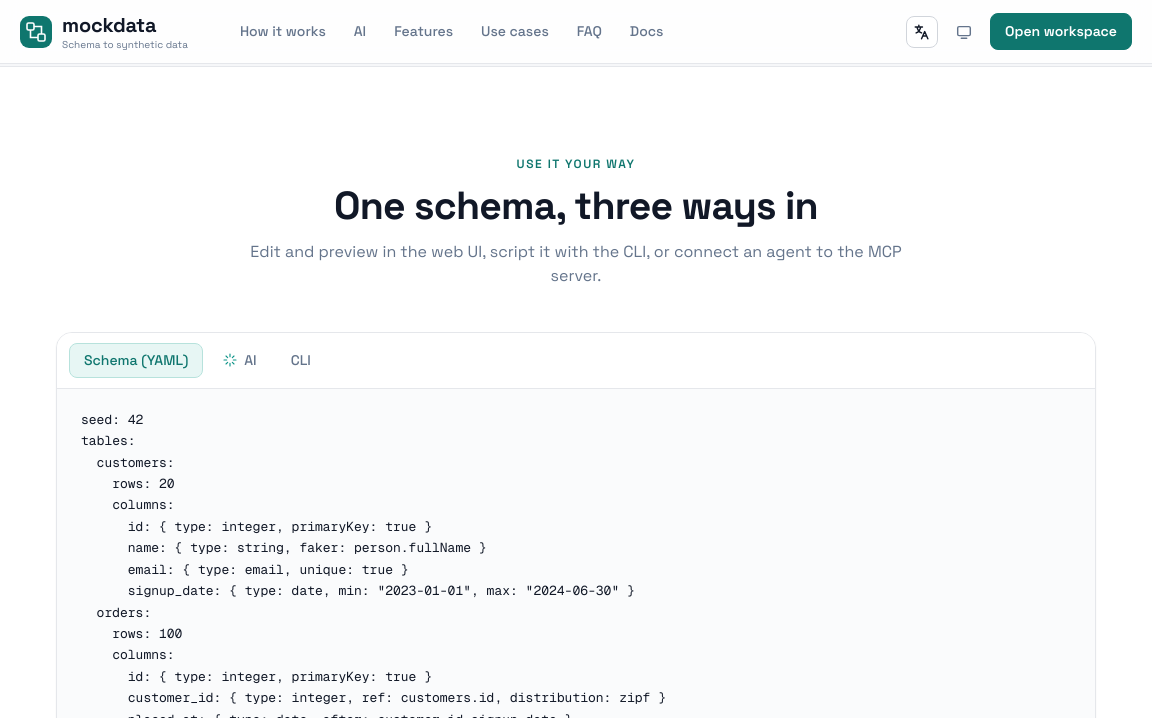
Test: Landing › switches the example snippets with tabs and arrow keys
(page scrolled)
Click the tab "CLI" at (301,360), box [276,343,326,378]
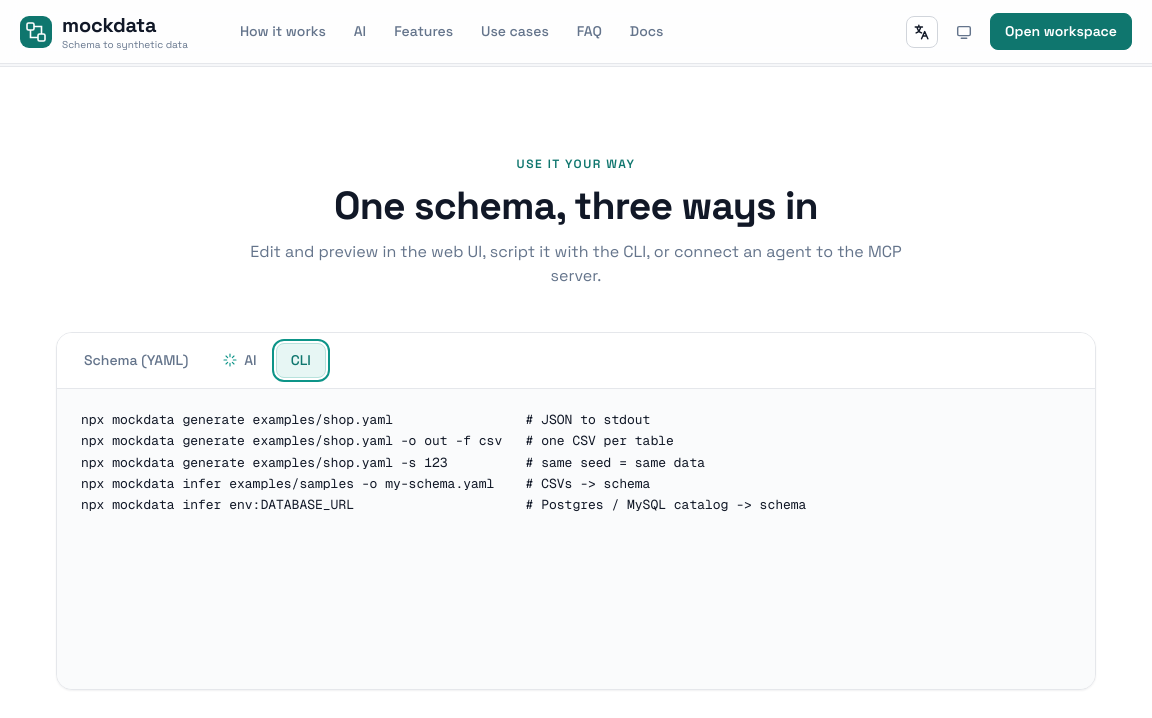
Now the panel shows "npx mockdata generate", box [81,411,806,514]
Press Arrowleft
(page scrolled)
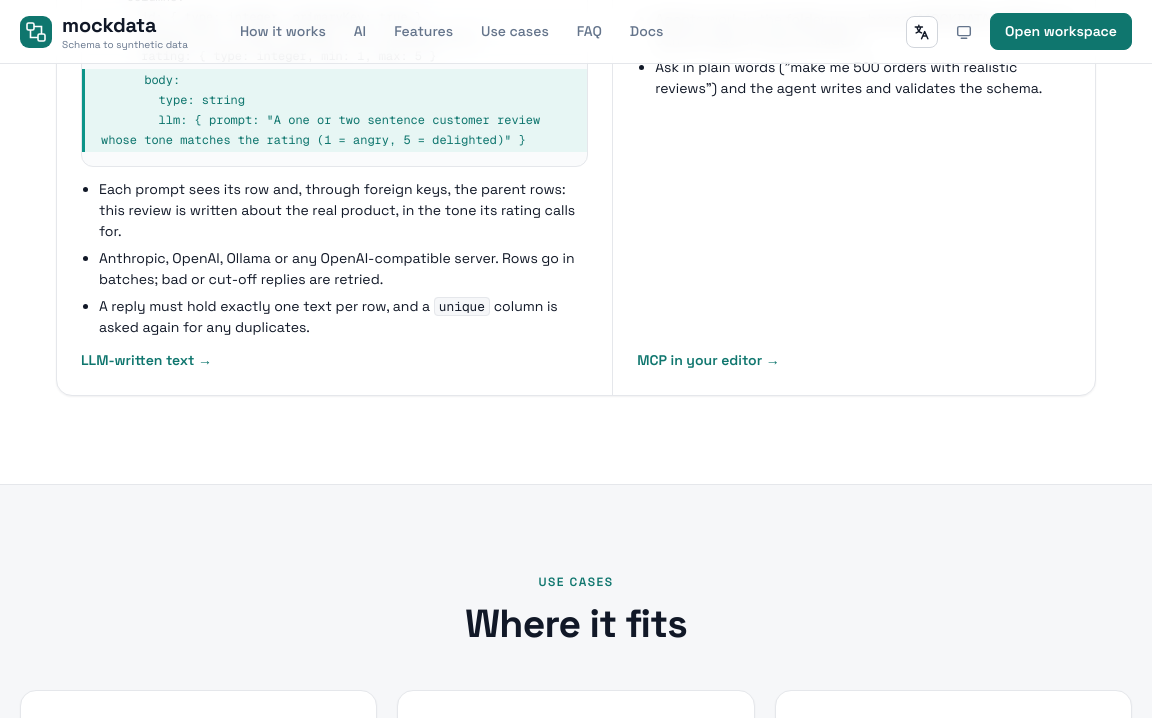
Now the text "llm: { prompt: \"A one or two sentence customer review" is shown, box [101,72,547,148]
